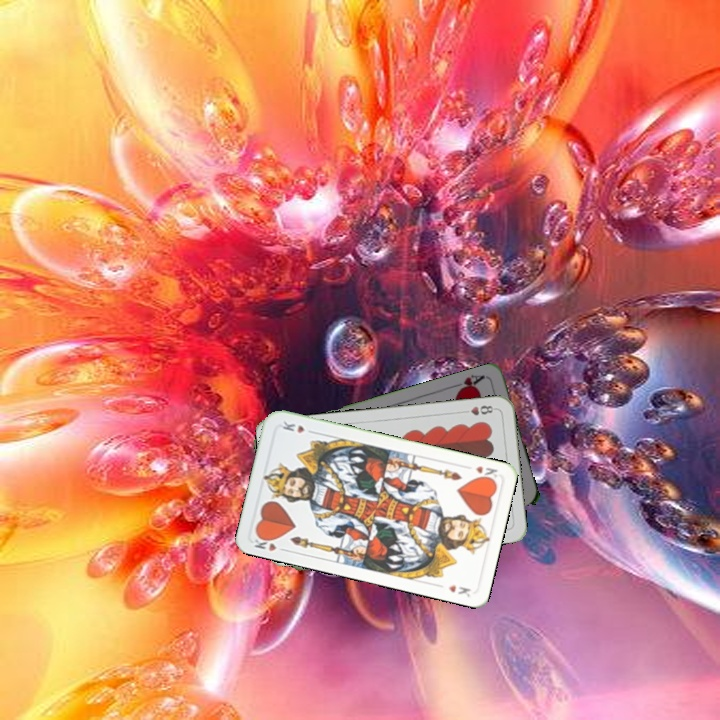H8: (458, 401, 498, 418)
HA: (448, 371, 488, 396)
HK: (250, 531, 289, 554), (472, 462, 500, 484)
